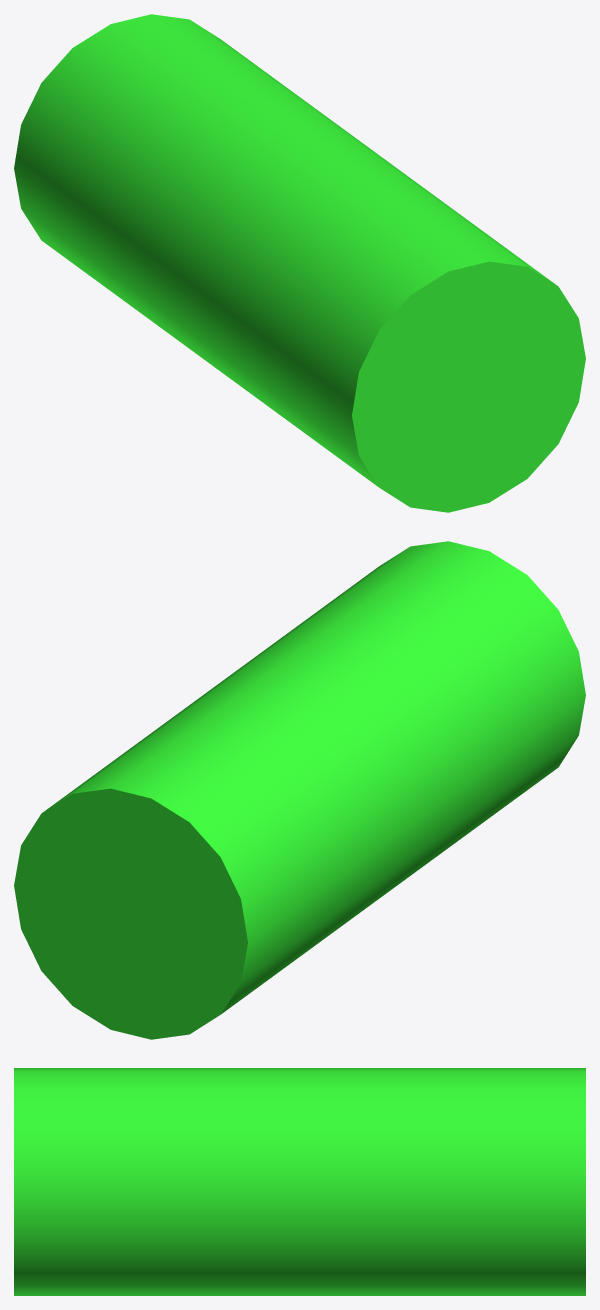
Rendered from Beem.FBX.
The picture shows the model from 3 angles, top to bottom: view 1: azimuth 30°, elevation 25°; view 2: azimuth 150°, elevation 25°; view 3: azimuth 270°, elevation 25°; orthographic projection. The views are drawn at different scales.
Visible parts, largest first — view 1: Cylinder001; view 2: Cylinder001; view 3: Cylinder001.
Part boxes in pixels (x1=…): Cylinder001: x1=14, y1=14, x2=585, y2=512; Cylinder001: x1=14, y1=541, x2=585, y2=1039; Cylinder001: x1=14, y1=1068, x2=585, y2=1295.
Bounding box in the file's own units: 0.2 × 0.197 × 0.5.
